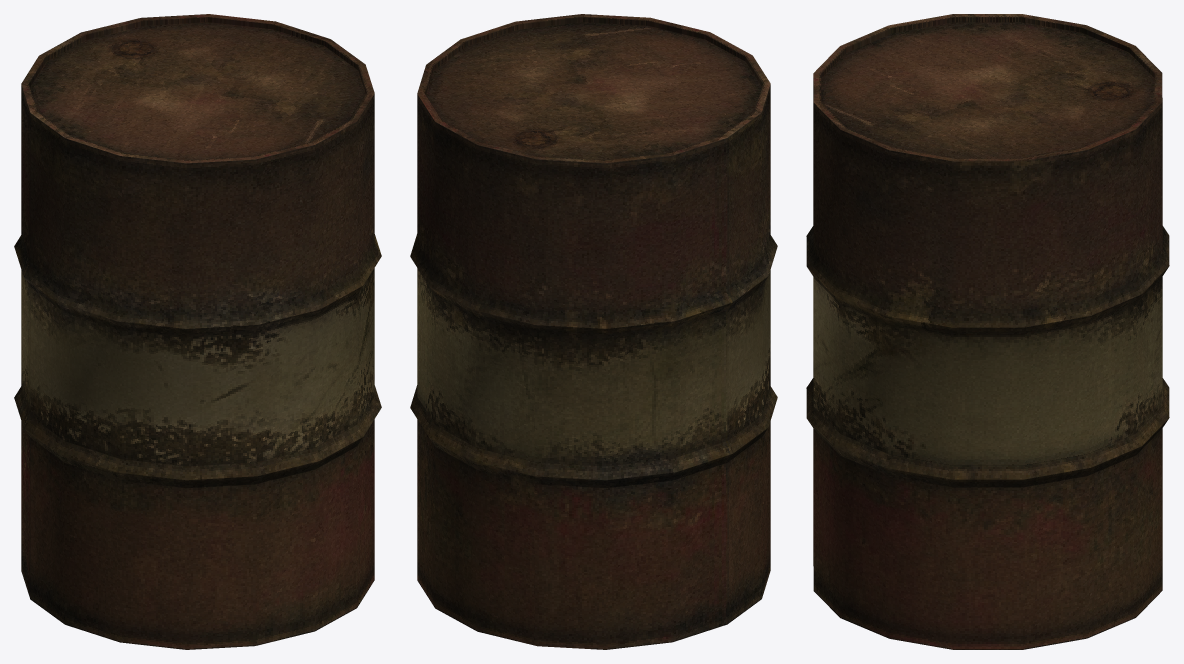
File: metal_barrel_2.glb
3 renders of one model, left to right at view 1: azimuth 30°, elevation 25°; view 2: azimuth 150°, elevation 25°; view 3: azimuth 270°, elevation 25°, orthographic.
Visible parts, largest first — view 1: metal_barrel_2; view 2: metal_barrel_2; view 3: metal_barrel_2.
Boxes of the visible parts, box(x1,y1,x2,y2) form: metal_barrel_2: box(14, 14, 381, 649); metal_barrel_2: box(410, 14, 777, 649); metal_barrel_2: box(806, 14, 1169, 649).
Bounding box in the file's own units: 0.6735 × 1 × 0.6735.
1 material, 1 textured.
